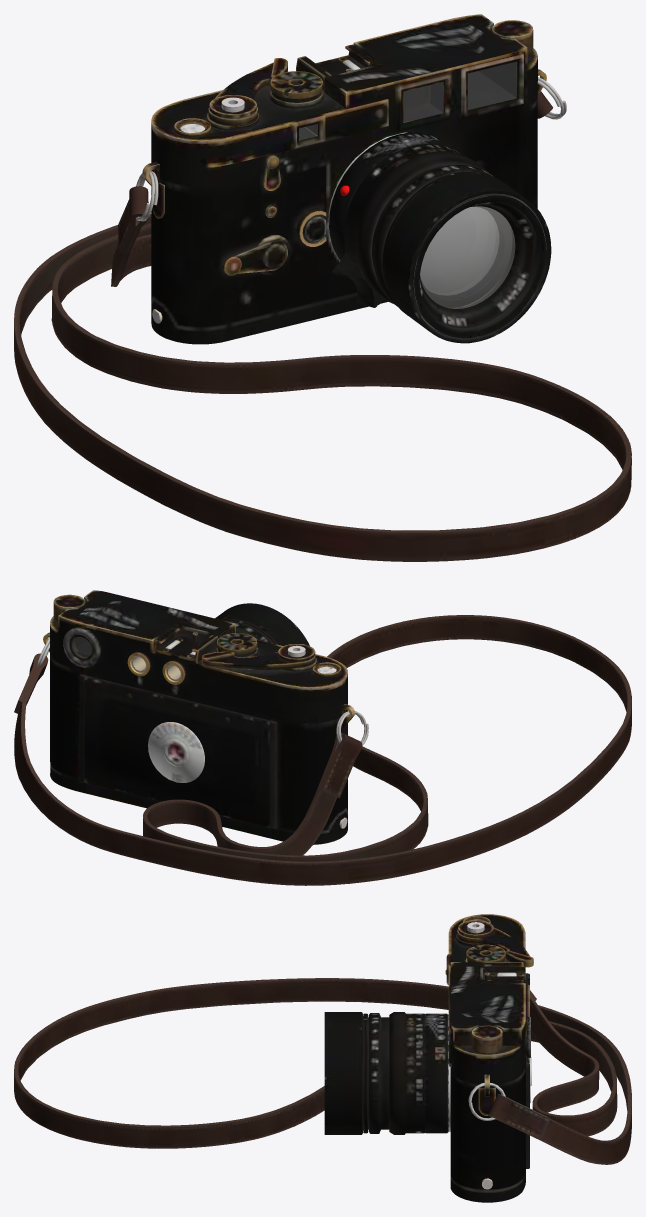
Rendered from macchina-foto.glb.
3 views of the same model, one above another, from view 1: azimuth 30°, elevation 25°; view 2: azimuth 150°, elevation 25°; view 3: azimuth 270°, elevation 25° (orthographic). The views are drawn at different scales.
Parts seen in each view (by area): view 1: Camera_01, Camera_01_strap; view 2: Camera_01, Camera_01_strap; view 3: Camera_01, Camera_01_strap.
Boxes of the visible parts, left/top/right/bottom form: Camera_01: left=142, top=14, right=551, bottom=344; Camera_01_strap: left=14, top=77, right=631, bottom=561; Camera_01: left=43, top=590, right=354, bottom=844; Camera_01_strap: left=14, top=615, right=631, bottom=885; Camera_01: left=324, top=914, right=533, bottom=1202; Camera_01_strap: left=14, top=978, right=631, bottom=1164.
Bounding box in the file's own units: 0.214 × 0.0778 × 0.2628.
4 materials, 3 textured.
